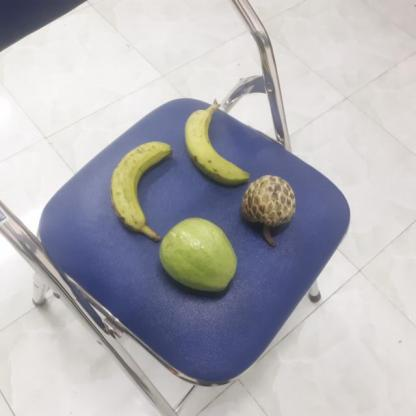annona: (238, 174, 296, 240)
banana: (105, 142, 173, 233), (181, 104, 247, 183)
guava: (155, 219, 236, 295)
